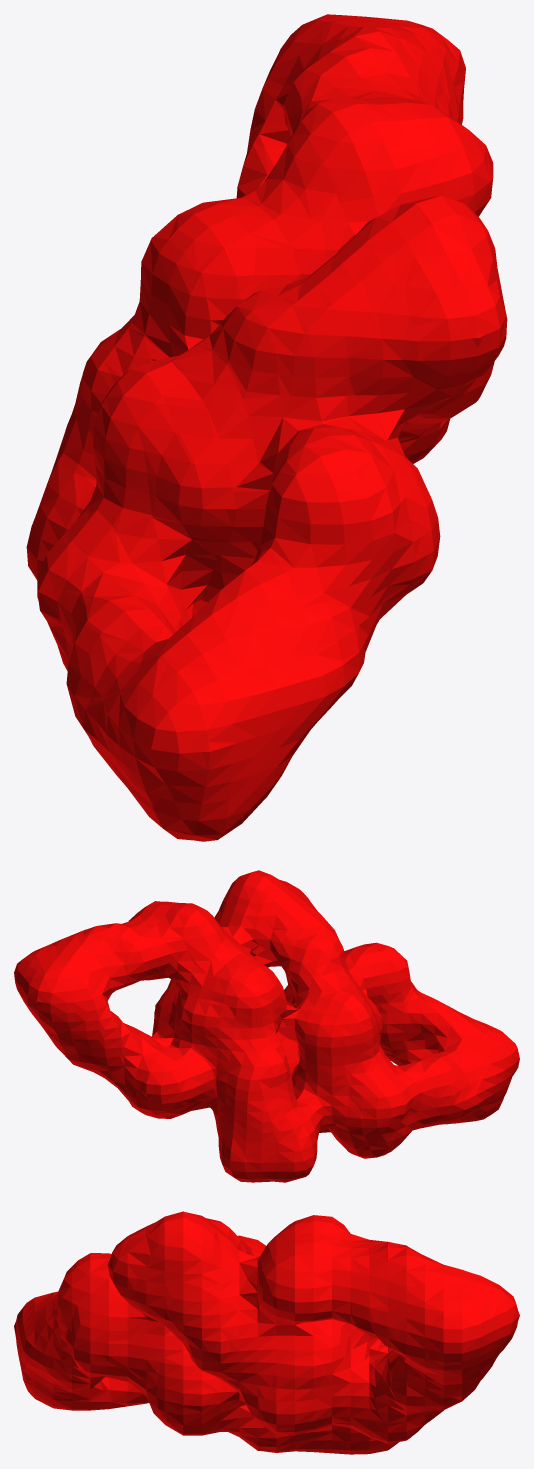
Rendered from msbA_coarse.dae.
3 views of the same model, one above another, from view 1: azimuth 30°, elevation 25°; view 2: azimuth 150°, elevation 25°; view 3: azimuth 270°, elevation 25° (orthographic). The views are drawn at different scales.
Parts seen in each view (by area): view 1: msbA; view 2: msbA; view 3: msbA.
Part boxes in pixels (box(x1,y1,x2,y2)): msbA: box(26, 14, 507, 841); msbA: box(14, 870, 519, 1182); msbA: box(14, 1211, 519, 1454).
Bounding box in the file's own units: 205 × 145 × 227.
